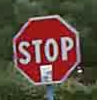stop: (10, 13, 82, 85)
